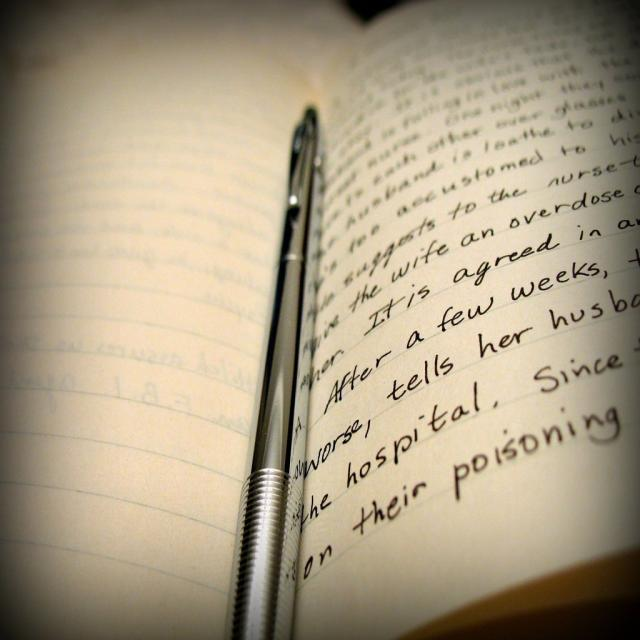pen: (219, 100, 327, 639)
